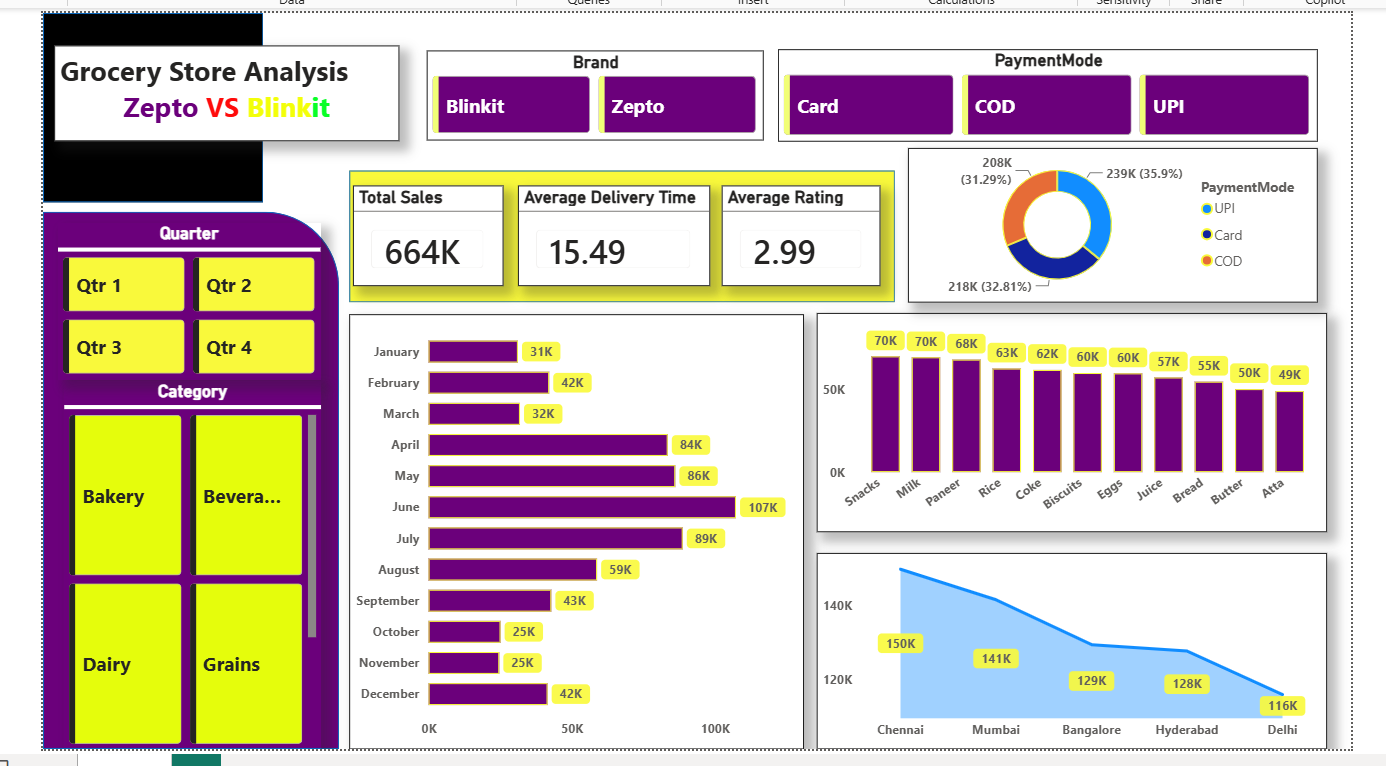

This screenshot's page, from the dashboard's own definition file:
{"tool":"powerbi","page":{"name":"Page 1","canvas":[1280,720],"ordinal":0},"visuals":[{"type":"shape","box":[0,194.9,289.5,525.6],"z":0},{"type":"shape","box":[0,0,215.4,185.2],"z":1000},{"type":"textbox","box":[11,31.6,337.6,93.3],"z":2000},{"type":"advancedSlicerVisual","fields":{"Values":["Table2.Brand"]},"box":[376,37,329.3,87.8],"z":3000},{"type":"advancedSlicerVisual","fields":{"Values":["Table2.PaymentMode"]},"box":[719,35.7,528.3,90.6],"z":4000},{"type":"advancedSlicerVisual","fields":{"Values":["Table2.Date.Variation.Date Hierarchy.Quarter"]},"box":[15.1,205.8,256.6,153.7],"z":5000},{"type":"advancedSlicerVisual","fields":{"Values":["Table2.Category"]},"box":[20.6,359.5,251.1,360.9],"z":6000},{"type":"shape","box":[299.1,153.7,533.8,129],"z":7000},{"type":"cardVisual","title":"Total Sales","fields":{"Data":["Sum(Table2.Amount)"]},"box":[303.3,168.8,146.8,98.8],"z":8000},{"type":"cardVisual","title":"Average Delivery Time","fields":{"Data":["Avg(Table2.DeliveryTime(min))"]},"box":[465.2,168.8,188,98.8],"z":9000},{"type":"cardVisual","title":"Average Rating","fields":{"Data":["Avg(Table2.Rating)"]},"box":[664.2,168.8,155.1,98.8],"z":10000},{"type":"barChart","fields":{"Category":["Table2.Date.Variation.Date Hierarchy.Month"],"Y":["Sum(Table2.Amount)"]},"box":[299.1,295,444.6,425.4],"z":11000},{"type":"clusteredColumnChart","fields":{"Category":["Table2.Product"],"Y":["Sum(Table2.Amount)"]},"box":[757.5,293.7,499.5,214.1],"z":12000},{"type":"stackedAreaChart","fields":{"Category":["Table2.City"],"Y":["Sum(Table2.Amount)"]},"box":[757.5,528.3,499.5,192.1],"z":13000},{"type":"donutChart","fields":{"Category":["Table2.PaymentMode"],"Y":["Sum(Table2.Amount)"]},"box":[846.7,131.7,400.7,150.9],"z":14000}]}

Visuals, with their boxes in screenshot pixels (x1, y1, x2, y2):
shape: Rect(36, 208, 329, 739)
shape: Rect(36, 11, 254, 198)
textbox: Rect(47, 43, 388, 137)
advancedSlicerVisual - Table2.Brand: Rect(416, 48, 749, 137)
advancedSlicerVisual - Table2.PaymentMode: Rect(763, 47, 1297, 139)
advancedSlicerVisual - Table2.Date.Variation.Date Hierarchy.Quarter: Rect(51, 219, 311, 374)
advancedSlicerVisual - Table2.Category: Rect(57, 374, 311, 739)
shape: Rect(338, 166, 878, 297)
"Total Sales" cardVisual: Rect(343, 181, 491, 281)
"Average Delivery Time" cardVisual: Rect(506, 181, 696, 281)
"Average Rating" cardVisual: Rect(708, 181, 864, 281)
barChart - Table2.Date.Variation.Date Hierarchy.Month x Sum(Table2.Amount): Rect(338, 309, 788, 739)
clusteredColumnChart - Table2.Product x Sum(Table2.Amount): Rect(802, 308, 1307, 524)
stackedAreaChart - Table2.City x Sum(Table2.Amount): Rect(802, 545, 1307, 739)
donutChart - Table2.PaymentMode x Sum(Table2.Amount): Rect(892, 144, 1297, 297)
